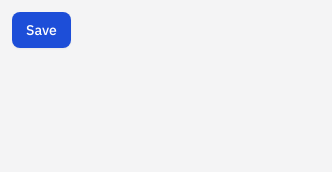
Test: an async button ignores a second tap until the save finishes
The width and height of the screenshot is (332, 172).
Later steps or results of the test are not shown.
Click the button with test id "save" at (41, 30), box [12,12,71,48]
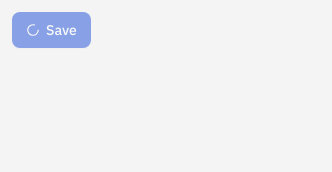
Click the button with test id "save" at (51, 30), box [12,12,91,48]
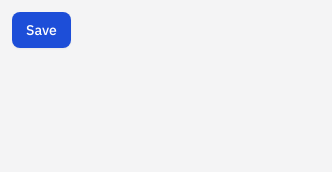
expect the button with test id "save" is enabled: met, box [12,12,71,48]
